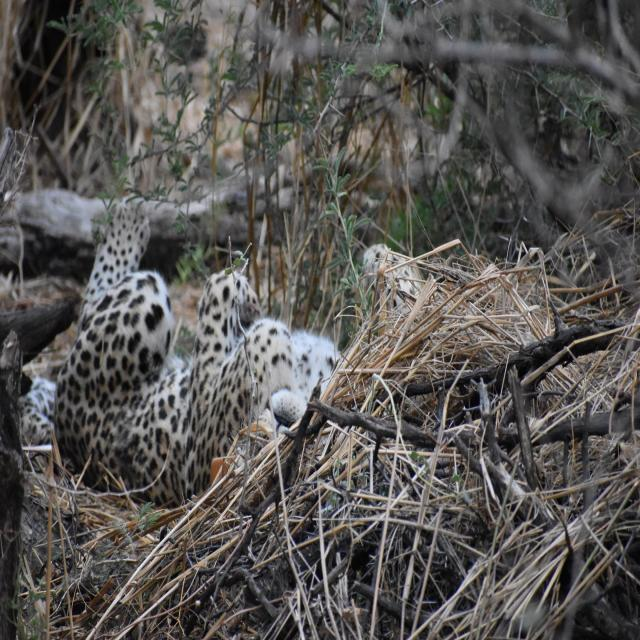Leopard: (23, 204, 360, 495)
